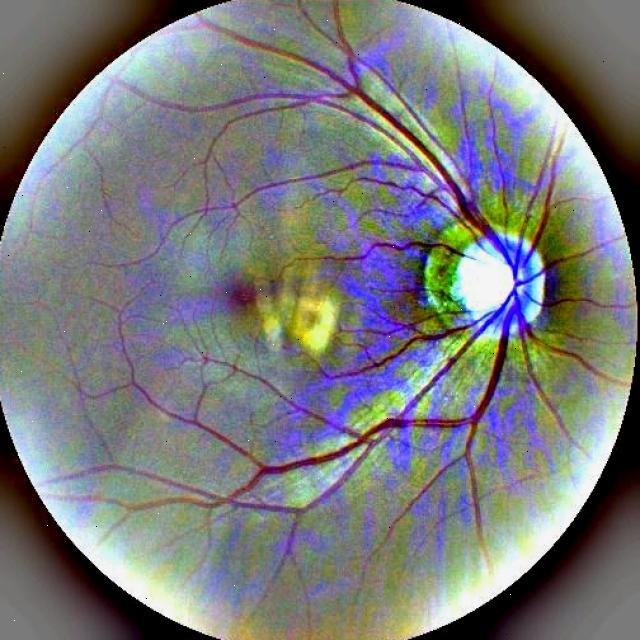Macula: (232, 283, 254, 305)
Optic Disk: (424, 223, 543, 333)
